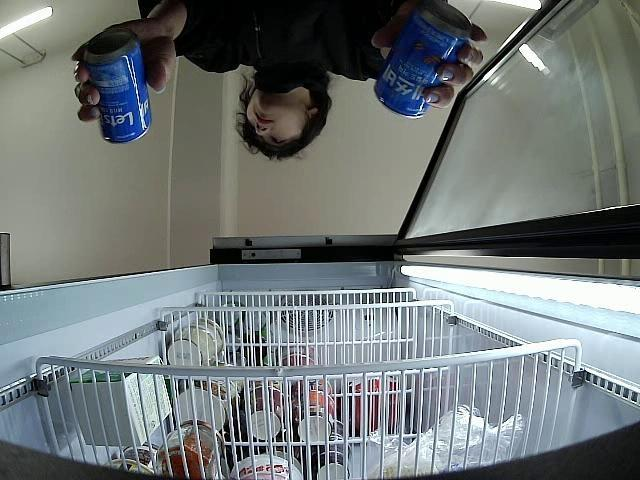15_letsbe: (375, 5, 470, 118), (84, 30, 152, 144)
